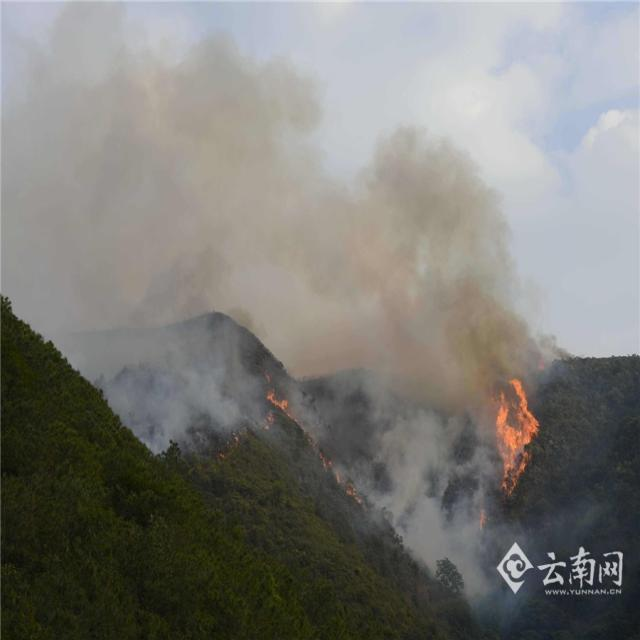Fire: (488, 374, 540, 500), (316, 449, 362, 508), (260, 372, 298, 433), (218, 428, 243, 462), (478, 506, 491, 534)
Smoke: (1, 4, 612, 634)
